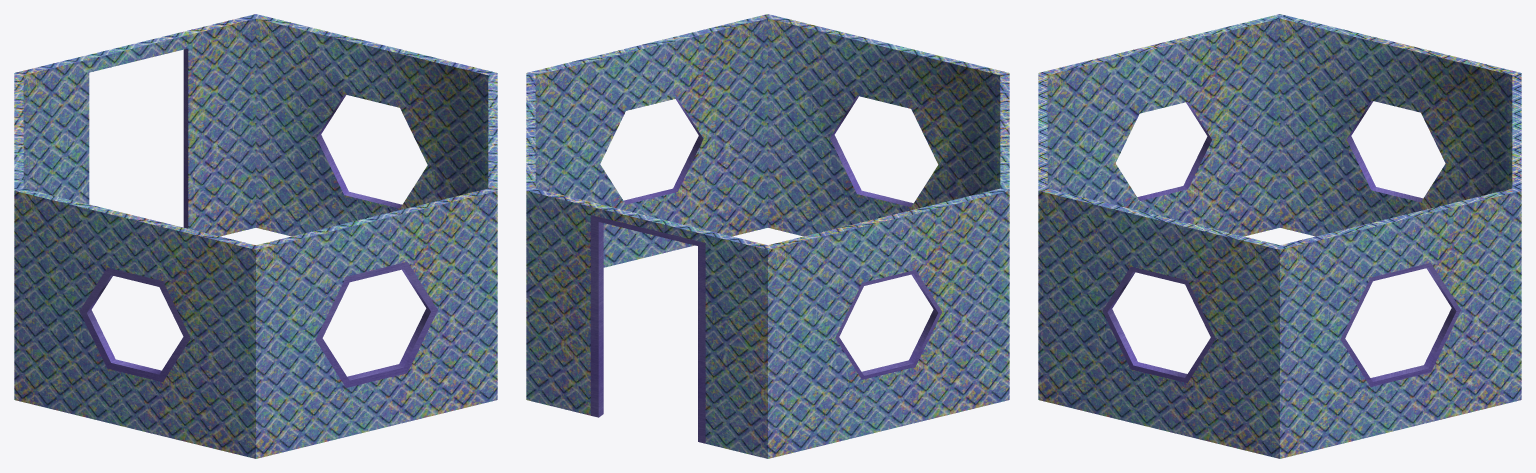
The model's file is spacebase.dae.
3 renders of one model, left to right at view 1: azimuth 30°, elevation 25°; view 2: azimuth 150°, elevation 25°; view 3: azimuth 270°, elevation 25°, orthographic.
Parts seen in each view (by area): view 1: SketchUp_001, SketchUp_002, SketchUp_005, SketchUp_004, SketchUp, SketchUp_012, SketchUp_010, SketchUp_009; view 2: SketchUp_001, SketchUp_002, SketchUp, SketchUp_003, SketchUp_010, SketchUp_011, SketchUp_008; view 3: SketchUp_001, SketchUp_002, SketchUp_007, SketchUp_006, SketchUp_012, SketchUp_011, SketchUp_008, SketchUp_009.
Boxes of the visible parts, x1,y1,x2,y2 form: SketchUp_001: (14,14,497,458); SketchUp_002: (23,18,488,236); SketchUp_005: (315,262,437,387); SketchUp_004: (79,267,190,382); SketchUp: (183,48,188,228); SketchUp_012: (316,94,401,208); SketchUp_010: (347,269,430,380); SketchUp_009: (87,275,161,374); SketchUp_001: (526,14,1009,458); SketchUp_002: (535,18,1000,267); SketchUp: (590,215,705,443); SketchUp_003: (835,270,941,379); SketchUp_010: (830,96,913,206); SketchUp_011: (624,98,703,204); SketchUp_008: (862,274,937,375); SketchUp_001: (1038,14,1521,458); SketchUp_002: (1047,18,1512,236); SketchUp_007: (1340,263,1460,386); SketchUp_006: (1102,266,1215,383); SketchUp_012: (1370,268,1456,381); SketchUp_011: (1107,272,1187,377); SketchUp_008: (1346,100,1422,202); SketchUp_009: (1137,102,1211,200).
Bounding box in the file's own units: 6.05 × 5.24 × 2.5.
Materials: 2 (2 with a texture image).
